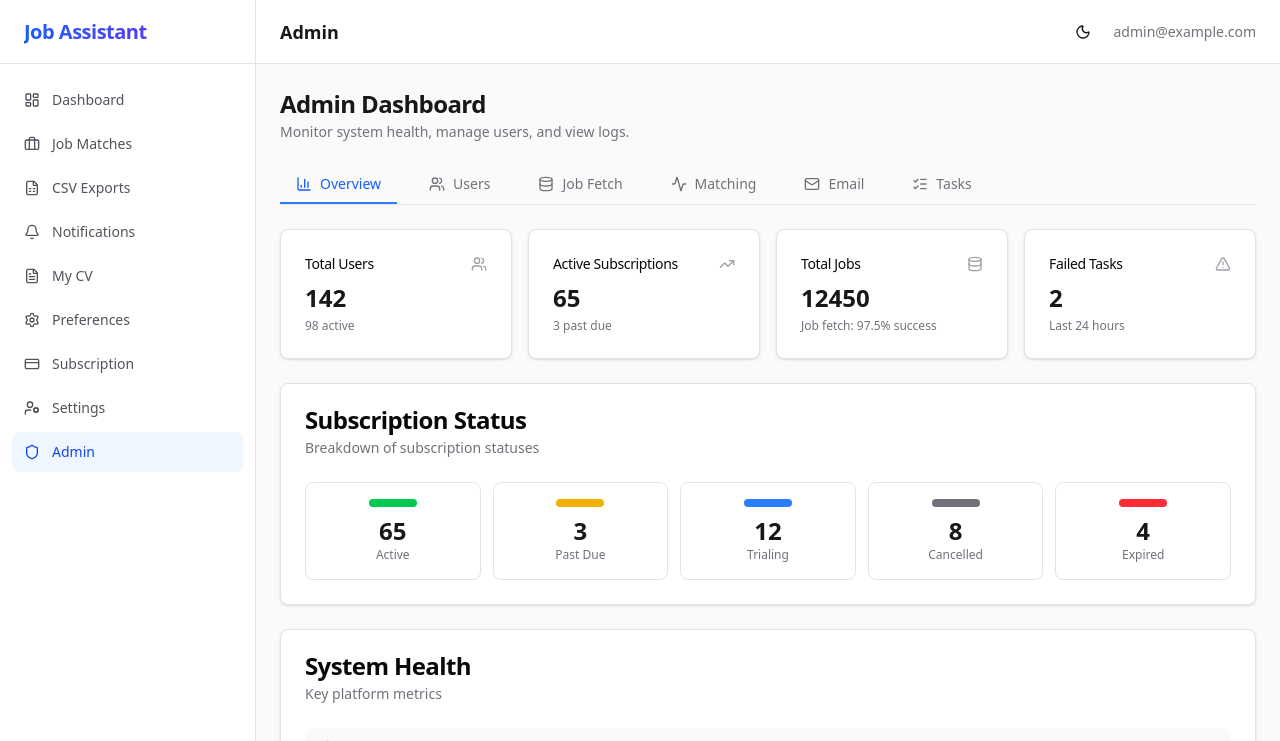
Test: Admin page › as admin › tasks tab renders task cards with status
The width and height of the screenshot is (1280, 741).
Click the button "Tasks" at point(942, 185), box [896, 166, 987, 204]
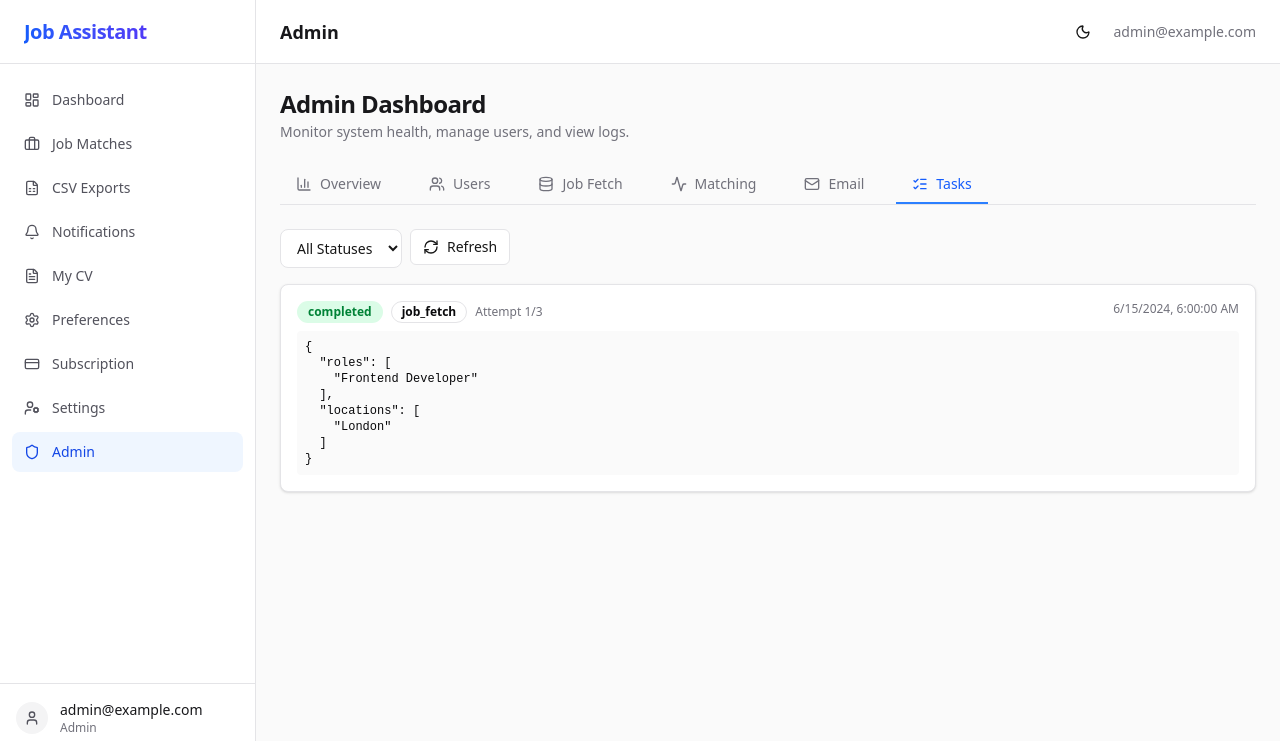
Expected: the text "job_fetch" is shown, [391, 301, 467, 323]
Expected: the text "completed" is shown, [297, 301, 383, 323]
